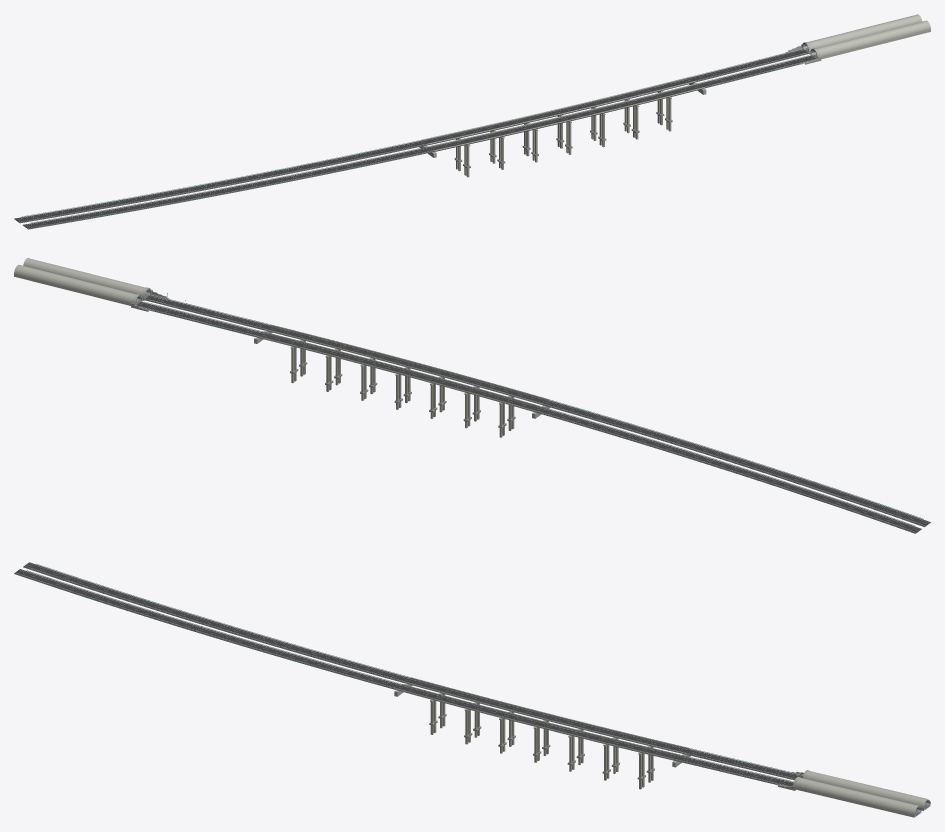
The model's file is songlan-engineering.glb.
3 renders of one model, top to bottom at view 1: azimuth 30°, elevation 25°; view 2: azimuth 150°, elevation 25°; view 3: azimuth 330°, elevation 25°, orthographic. The views are drawn at different scales.
Parts seen in each view (by area): view 1: Asphalt · eastbound and westbound, Steel guardrails, concrete bridge parapets and reflectors, Reinforced-concrete bridge piers and cap beams, Twin reinforced tunnel linings and portal collars, Approach roadbed, paved shoulders and deck drainage, Precast bridge decks, box girders, bearings and abutments; view 2: Asphalt · eastbound and westbound, Steel guardrails, concrete bridge parapets and reflectors, Reinforced-concrete bridge piers and cap beams, Twin reinforced tunnel linings and portal collars, Approach roadbed, paved shoulders and deck drainage, Precast bridge decks, box girders, bearings and abutments; view 3: Asphalt · eastbound and westbound, Steel guardrails, concrete bridge parapets and reflectors, Reinforced-concrete bridge piers and cap beams, Twin reinforced tunnel linings and portal collars, Approach roadbed, paved shoulders and deck drainage, Precast bridge decks, box girders, bearings and abutments.
Boxes of the visible parts, x1,y1,x2,y2 form: Asphalt · eastbound and westbound: (14,48,816,228); Steel guardrails, concrete bridge parapets and reflectors: (22,49,813,227); Reinforced-concrete bridge piers and cap beams: (419,82,706,177); Twin reinforced tunnel linings and portal collars: (802,14,930,59); Approach roadbed, paved shoulders and deck drainage: (14,49,811,229); Precast bridge decks, box girders, bearings and abutments: (425,82,703,151); Asphalt · eastbound and westbound: (135,294,930,533); Steel guardrails, concrete bridge parapets and reflectors: (139,295,923,530); Reinforced-concrete bridge piers and cap beams: (254,330,550,437); Twin reinforced tunnel linings and portal collars: (14,258,151,305); Approach roadbed, paved shoulders and deck drainage: (141,295,930,533); Precast bridge decks, box girders, bearings and abutments: (257,330,542,411); Asphalt · eastbound and westbound: (14,562,929,816); Steel guardrails, concrete bridge parapets and reflectors: (21,563,802,785); Reinforced-concrete bridge piers and cap beams: (394,683,690,789); Twin reinforced tunnel linings and portal collars: (793,770,930,817); Approach roadbed, paved shoulders and deck drainage: (14,562,800,784); Precast bridge decks, box girders, bearings and abutments: (397,683,682,760).
Bounding box in the file's own units: 1005 × 50.56 × 90.53.
Materials: 38 (1 with a texture image).
